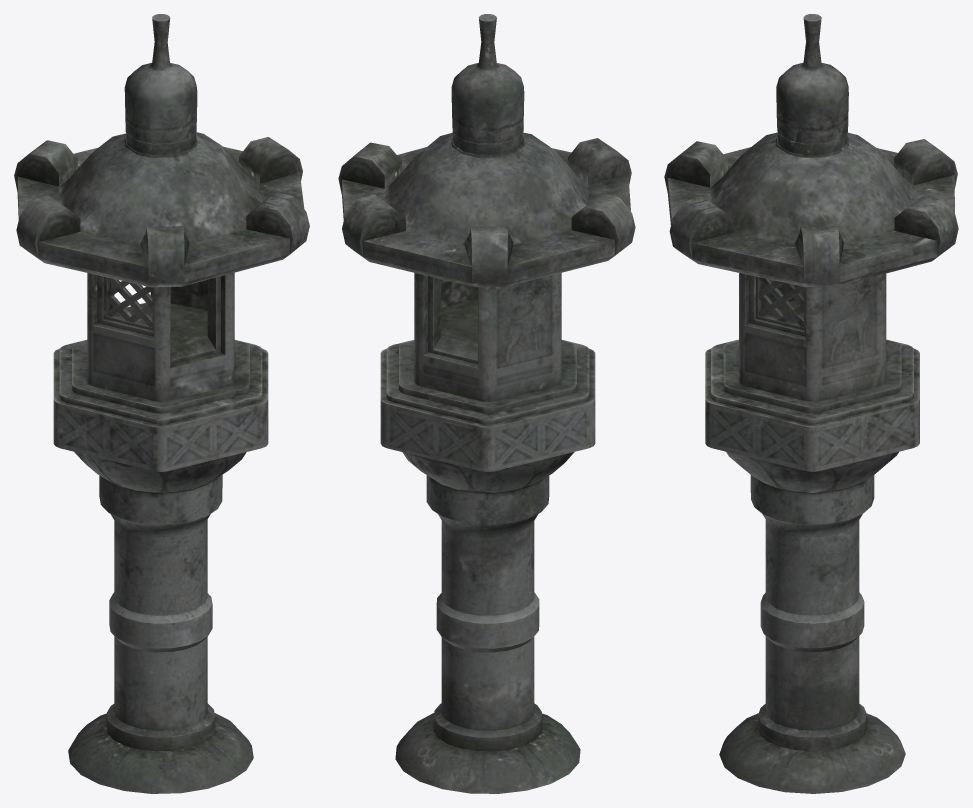
Rendered from japanese_stone_toro_lantern_7e42122d.fbx.
The picture shows the model from 3 angles, left to right: view 1: azimuth 30°, elevation 25°; view 2: azimuth 150°, elevation 25°; view 3: azimuth 270°, elevation 25°; orthographic projection.
Visible parts, largest first — view 1: japanese_stone_toro_lantern_7e42122d; view 2: japanese_stone_toro_lantern_7e42122d; view 3: japanese_stone_toro_lantern_7e42122d.
Part boxes in pixels (x1,y1,x2,y2): japanese_stone_toro_lantern_7e42122d: [14, 14, 309, 793]; japanese_stone_toro_lantern_7e42122d: [338, 14, 635, 793]; japanese_stone_toro_lantern_7e42122d: [664, 14, 958, 793].
Bounding box in the file's own units: 0.9572 × 2.45 × 0.8861.
1 material, 1 textured.
